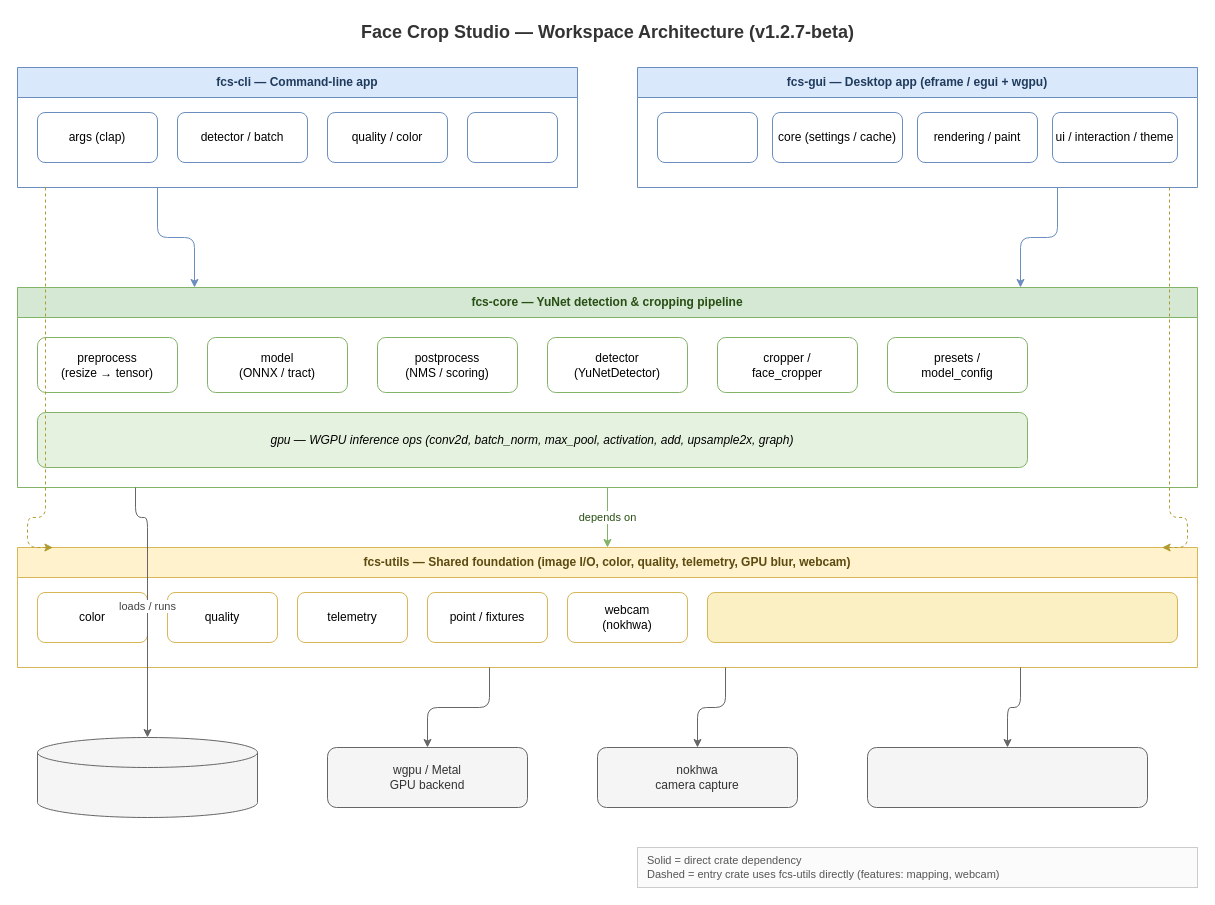
The diagram is 1215 pixels wide and 905 high, and some of its shapes have lost their labels. The box of each missing label's shape, as (x1, y1, x2, y2) in pixels:
app / types: (656, 112, 758, 162)
benchmark: (466, 112, 558, 162)
gpu — gaussian_blur, background_blur, buffer_pool: (706, 592, 1178, 642)
image / ravif / fast_image_resize (PNG, JPEG, WebP, AVIF, TIFF): (866, 746, 1148, 808)
YuNet ONNX model (face_detection_yunet_2023mar): (36, 736, 258, 818)
